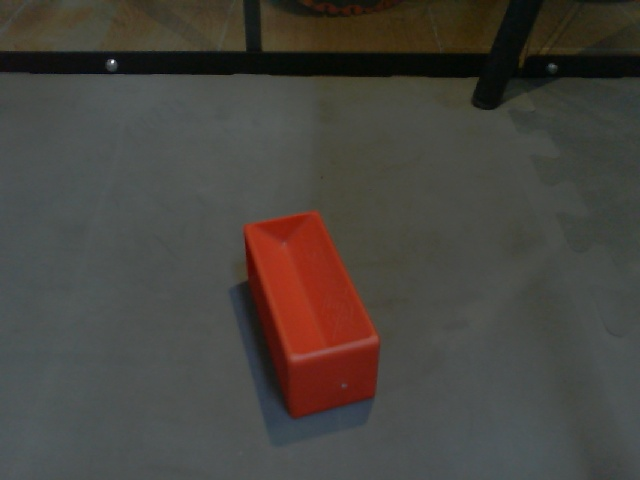RedSample: (240, 209, 382, 421)
